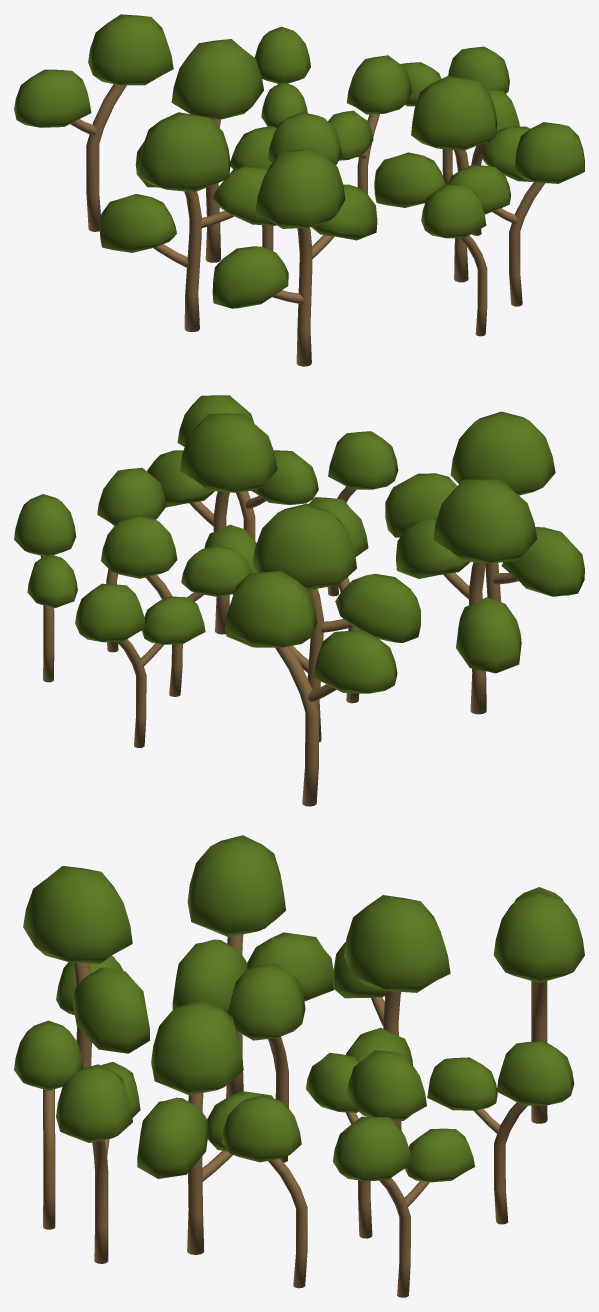
The model's file is Resource_Tree_Group.glb.
3 views of the same model, one above another, from view 1: azimuth 30°, elevation 25°; view 2: azimuth 150°, elevation 25°; view 3: azimuth 270°, elevation 25° (orthographic). The views are drawn at different scales.
Parts seen in each view (by area): view 1: Resource_Tree_Group; view 2: Resource_Tree_Group; view 3: Resource_Tree_Group.
Boxes of the visible parts, x1,y1,x2,y2 form: Resource_Tree_Group: [14, 14, 584, 366]; Resource_Tree_Group: [14, 395, 584, 806]; Resource_Tree_Group: [14, 835, 584, 1297].
Size of the model in its own units: 1.97 by 0.9264 by 1.86.
